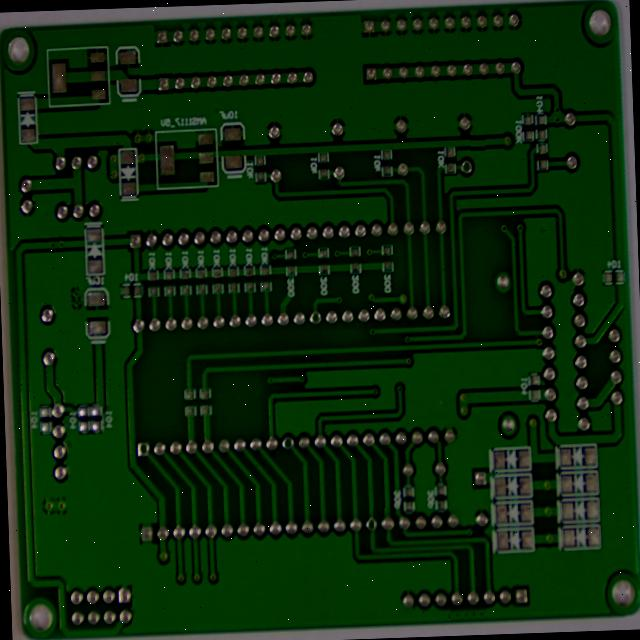missing_hole: (371, 506, 389, 529), (468, 134, 485, 156), (285, 422, 302, 443), (314, 291, 330, 313), (137, 428, 153, 450)
